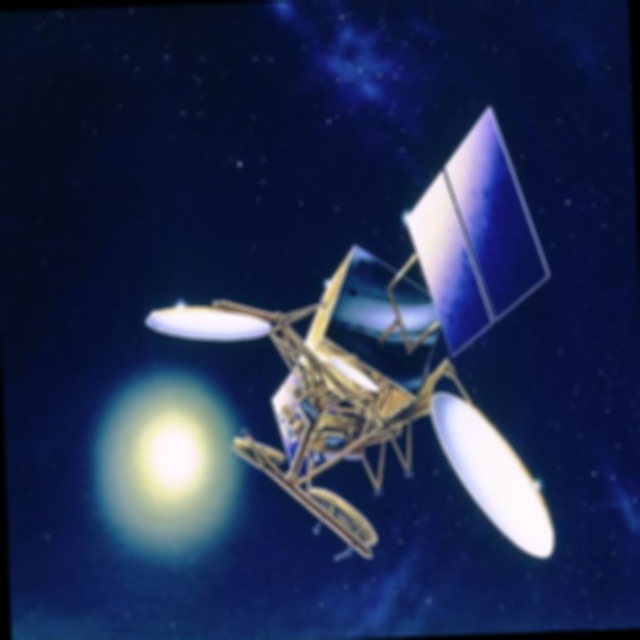satellite: (128, 92, 580, 584)
